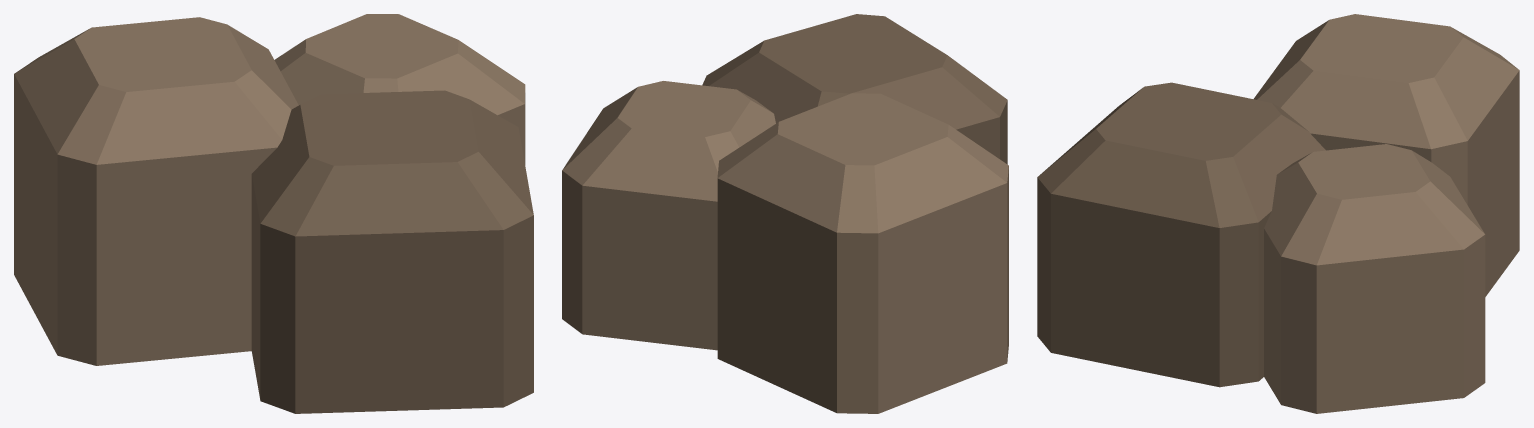
File: cube_sculpture_sand_c.obj
3 renders of one model, left to right at view 1: azimuth 30°, elevation 25°; view 2: azimuth 150°, elevation 25°; view 3: azimuth 270°, elevation 25°, orthographic. The views are drawn at different scales.
Parts seen in each view (by area): view 1: cube_sculpture_sand_c_4, cube_sculpture_sand_c_0, cube_sculpture_sand_c_5, cube_sculpture_sand_c_1, cube_sculpture_sand_c_3, cube_sculpture_sand_c_2; view 2: cube_sculpture_sand_c_0, cube_sculpture_sand_c_1, cube_sculpture_sand_c_2, cube_sculpture_sand_c_5, cube_sculpture_sand_c_3, cube_sculpture_sand_c_4; view 3: cube_sculpture_sand_c_4, cube_sculpture_sand_c_2, cube_sculpture_sand_c_5, cube_sculpture_sand_c_1, cube_sculpture_sand_c_3, cube_sculpture_sand_c_0.
Part boxes in pixels (bbox=[...]): cube_sculpture_sand_c_4: bbox=[251, 174, 533, 413]; cube_sculpture_sand_c_0: bbox=[14, 74, 276, 365]; cube_sculpture_sand_c_5: bbox=[252, 90, 533, 236]; cube_sculpture_sand_c_1: bbox=[14, 17, 298, 164]; cube_sculpture_sand_c_3: bbox=[274, 14, 525, 115]; cube_sculpture_sand_c_2: bbox=[498, 93, 525, 164]; cube_sculpture_sand_c_0: bbox=[717, 166, 1008, 413]; cube_sculpture_sand_c_1: bbox=[717, 93, 1008, 233]; cube_sculpture_sand_c_2: bbox=[562, 170, 717, 350]; cube_sculpture_sand_c_5: bbox=[702, 14, 1007, 129]; cube_sculpture_sand_c_3: bbox=[562, 81, 775, 201]; cube_sculpture_sand_c_4: bbox=[956, 100, 1007, 164]; cube_sculpture_sand_c_4: bbox=[1037, 177, 1271, 387]; cube_sculpture_sand_c_2: bbox=[1264, 229, 1485, 413]; cube_sculpture_sand_c_5: bbox=[1037, 82, 1325, 227]; cube_sculpture_sand_c_1: bbox=[1253, 14, 1519, 149]; cube_sculpture_sand_c_3: bbox=[1264, 144, 1484, 265]; cube_sculpture_sand_c_0: bbox=[1310, 70, 1519, 296].
Size of the model in its own units: 0.812 by 0.42 by 0.8241.
